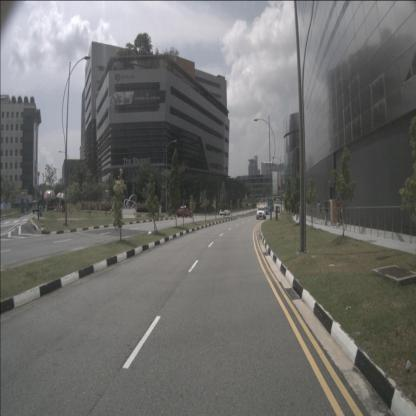human-pedestrian-adult: (336, 197, 342, 226), (322, 197, 328, 225), (317, 200, 321, 220)
vehicle-bus-rigid: (267, 198, 274, 212)
vehicle-car: (176, 206, 192, 218), (257, 207, 266, 220), (219, 206, 230, 216), (32, 200, 39, 214), (264, 206, 269, 214), (275, 206, 280, 212)
